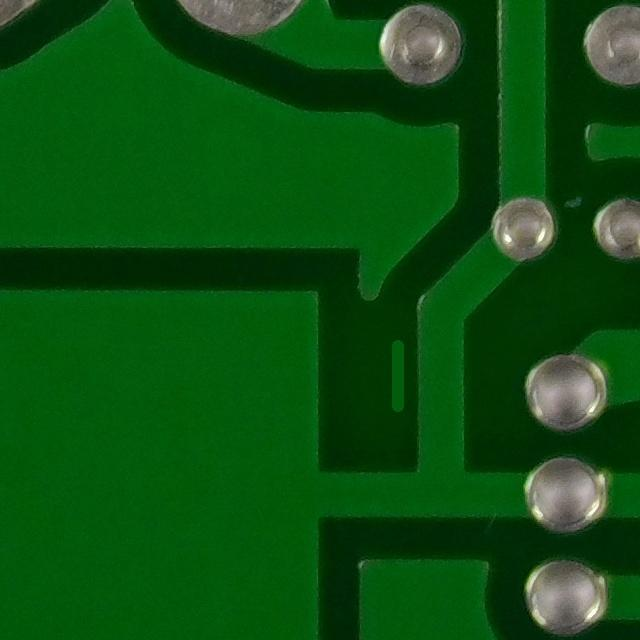spurious_copper: (370, 323, 422, 428)
